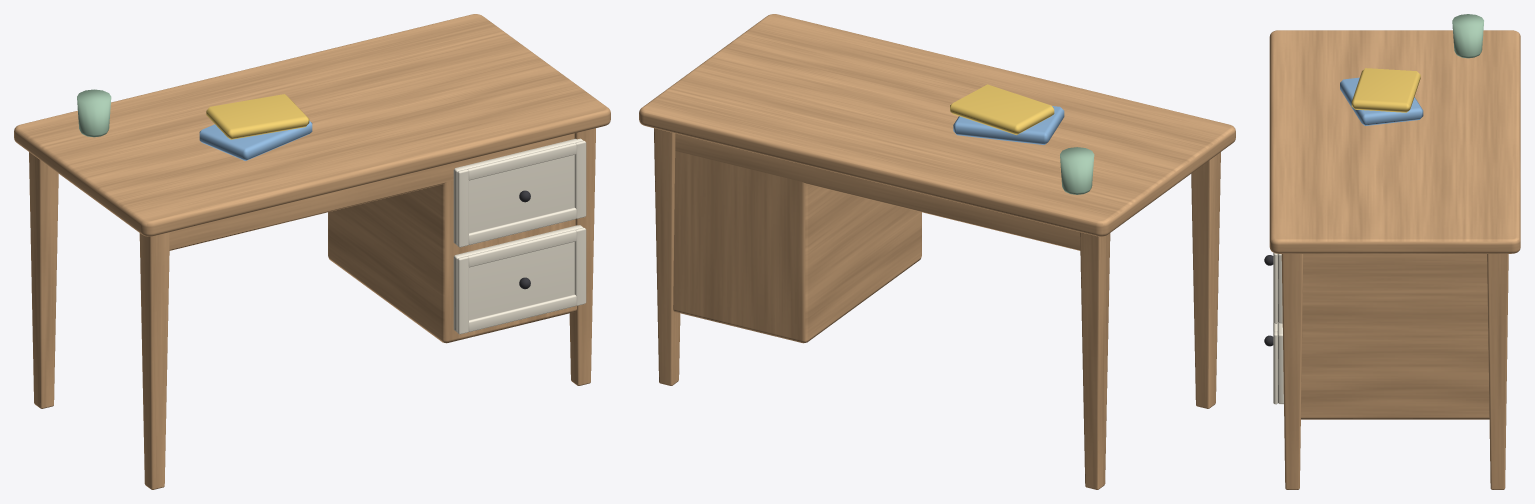
File: prop_desk.glb
3 views of the same model, side by side, from view 1: azimuth 30°, elevation 25°; view 2: azimuth 150°, elevation 25°; view 3: azimuth 270°, elevation 25° (orthographic). The views are drawn at different scales.
Parts seen in each view (by area): view 1: prop_desk; view 2: prop_desk; view 3: prop_desk.
Part boxes in pixels (x1,y1,x2,y2): prop_desk: (14, 14, 610, 489); prop_desk: (639, 14, 1235, 489); prop_desk: (1264, 14, 1520, 489).
Size of the model in its own units: 1.38 by 0.875 by 0.7025.
6 materials, 1 textured.
